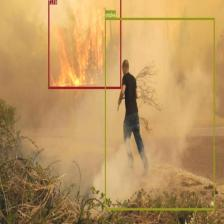fire: (48, 0, 121, 88)
smoke: (104, 17, 214, 210)
